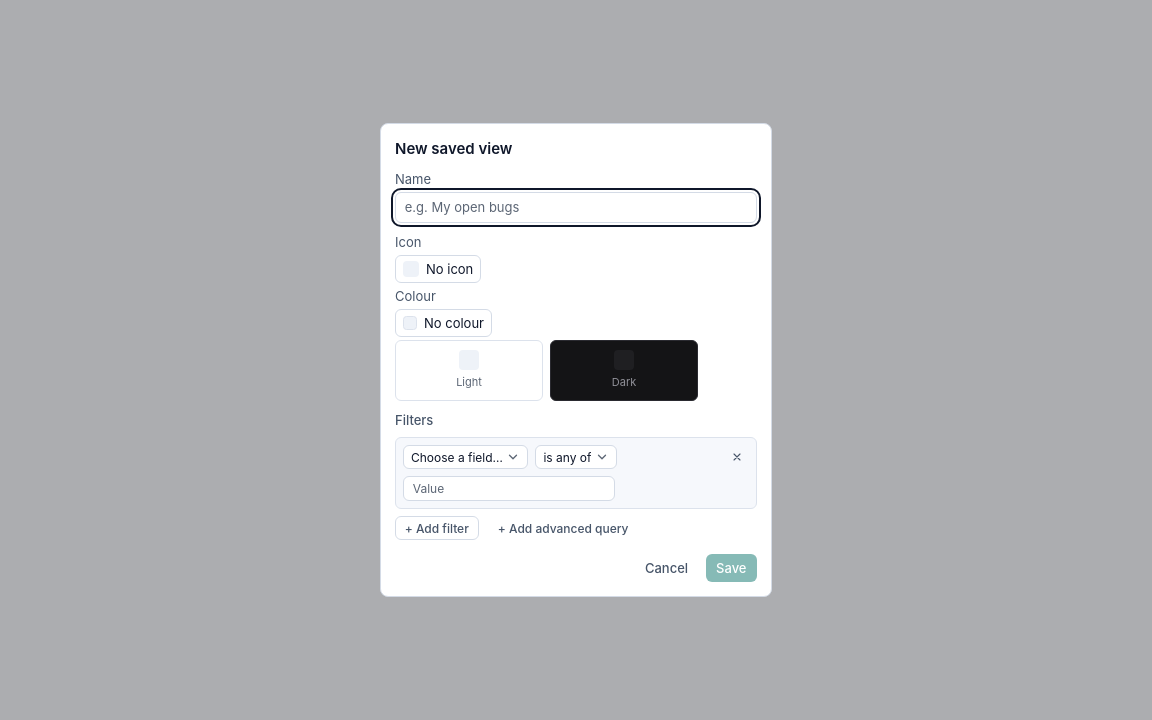
it: ViewFormDialog — chrome › blocks Save while a started filter is unfinished, and drops untouched blank rows
This screenshot has width=1152, height=720.
Expected: the button with test id "view-filter-field-0" is shown, 403,445 -> 528,469
Type "Mine" into the field with test id "view-form-name" at (576,207), box 395,192 -> 757,223
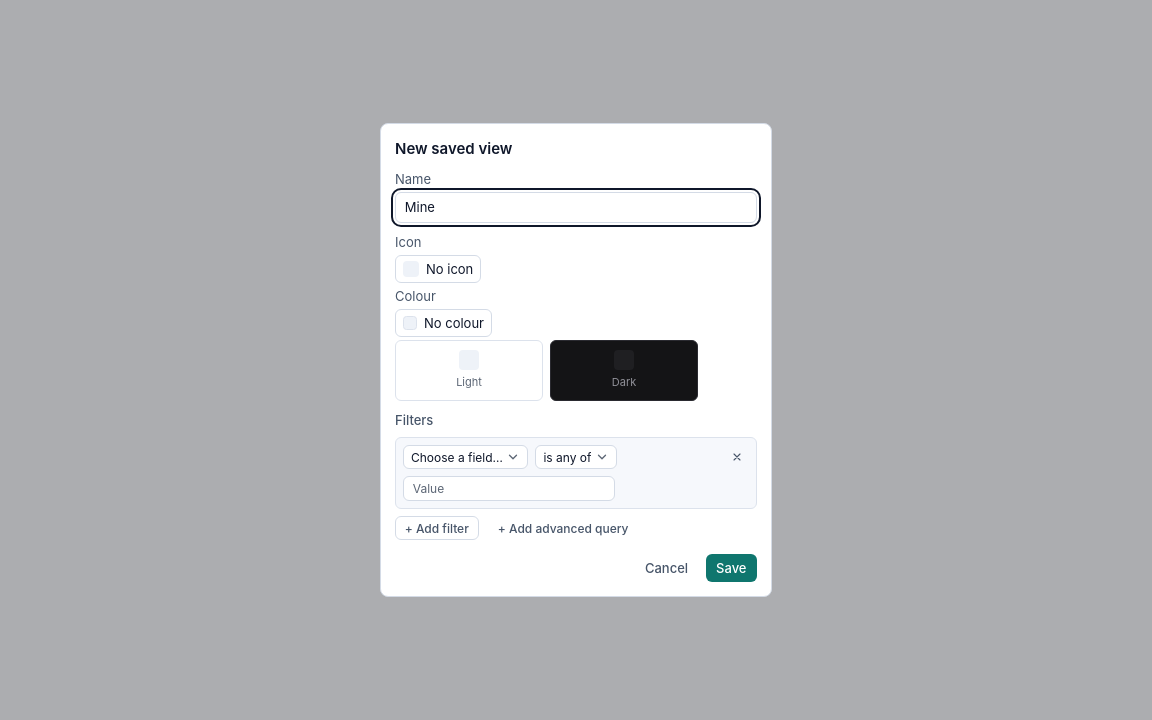
Expected: the button with test id "view-form-save" is enabled, 706,554 -> 757,582
Click the button with test id "view-filter-field-0" at (466,457), box 403,445 -> 528,469
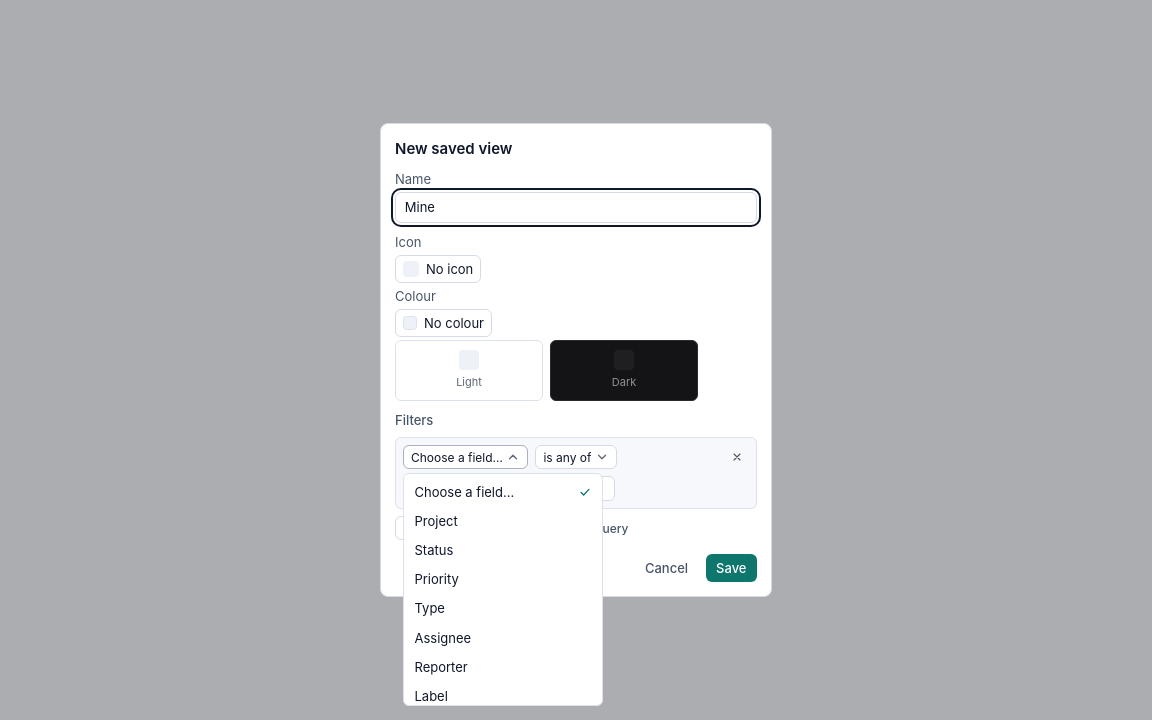
Click the option "Status" at (503,551), box 404,536 -> 602,565
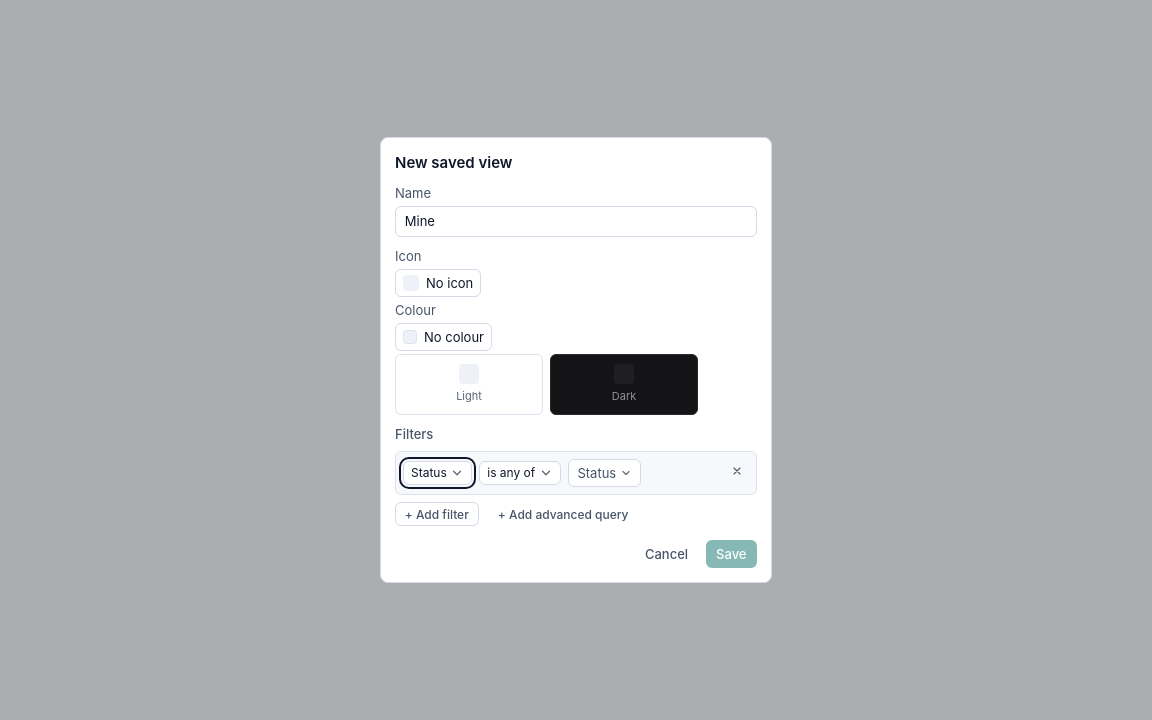
Expected: the button with test id "view-form-save" is disabled, 706,540 -> 757,568
